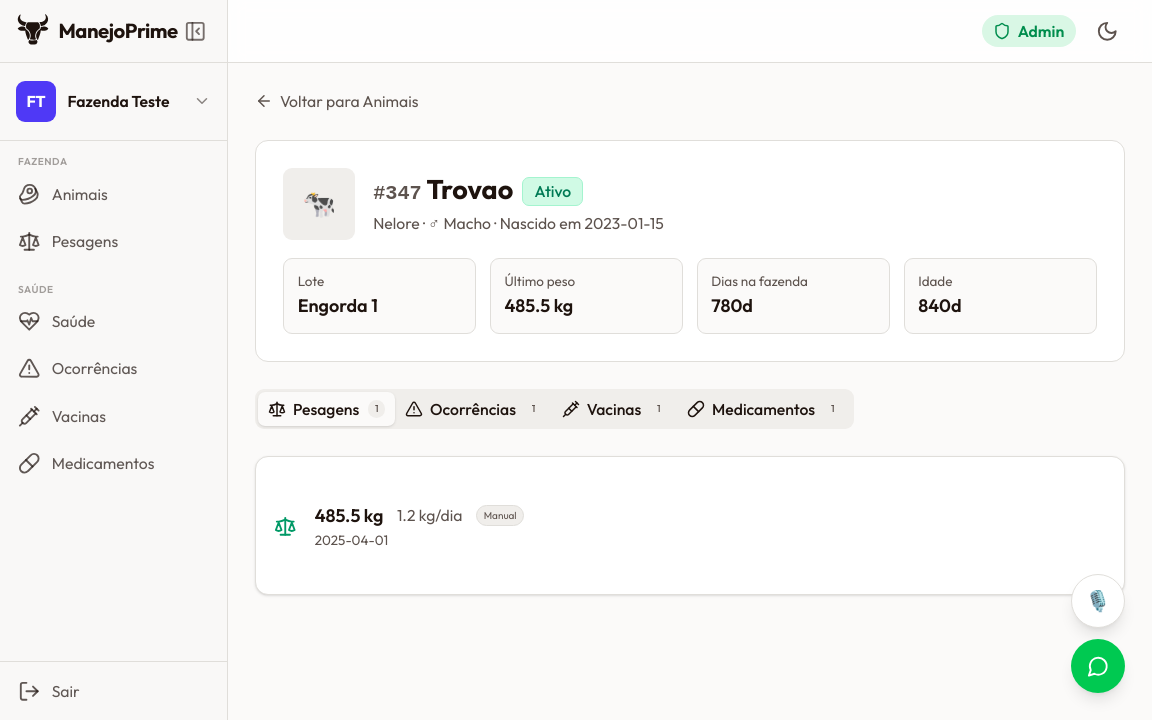
animal detail page › Occurrences tab renders occurrence rows from API
The width and height of the screenshot is (1152, 720).
Expected: the text "485.5 kg" below "Último peso" is shown, 504,294 -> 573,317
Press the mouse on the tab "Ocorrências 1" at [474, 409], box 395,392 -> 552,426
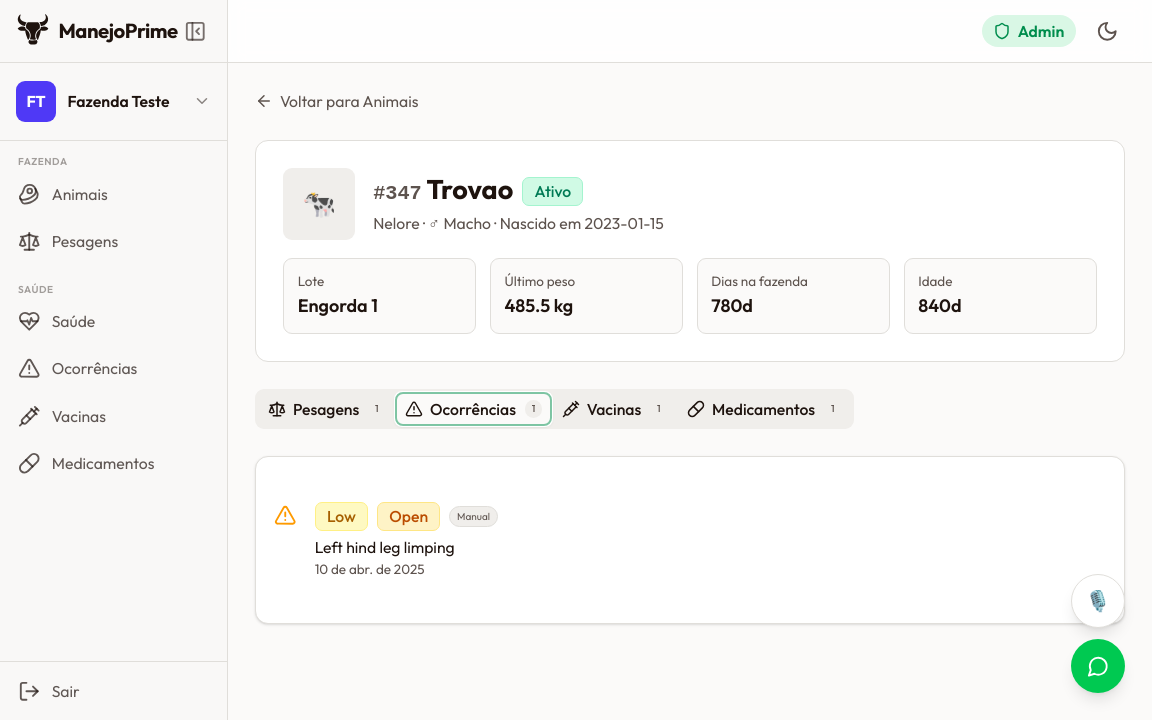
Now the text "Left hind leg limping" is shown, box 315,537 -> 455,557
